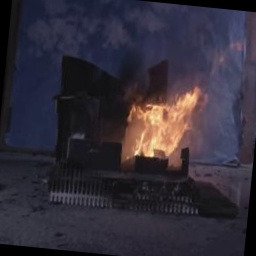fire: (113, 71, 211, 170)
